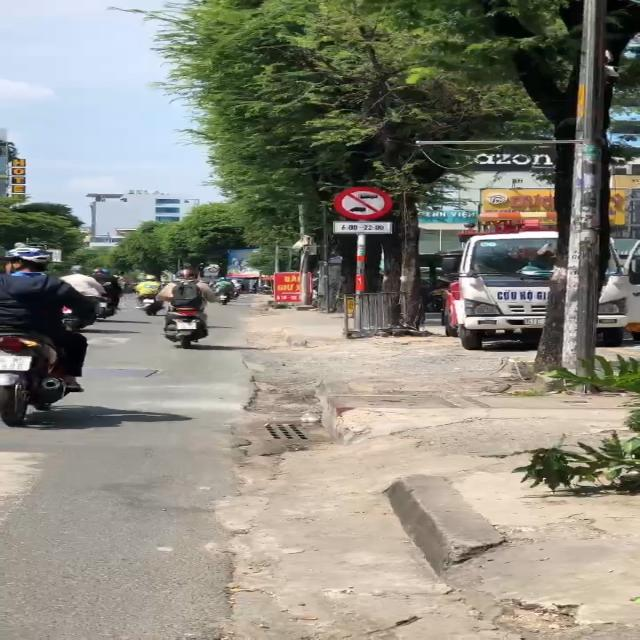Bien bao cam xe oto khach va xe oto tai: (333, 186, 392, 222)
